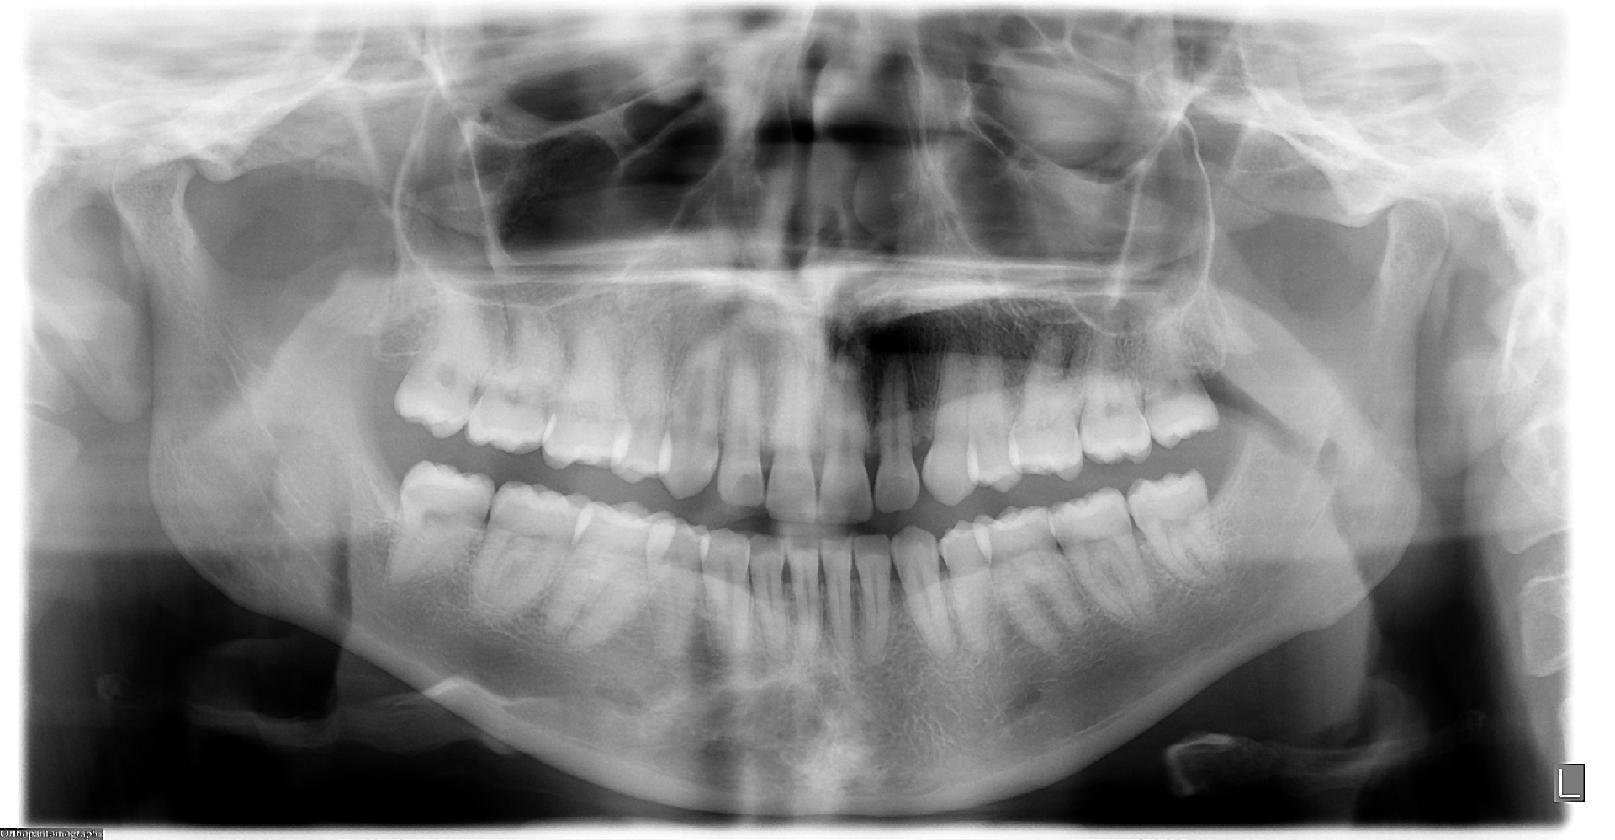Erupted: (389, 450, 496, 590), (1126, 466, 1233, 598)
